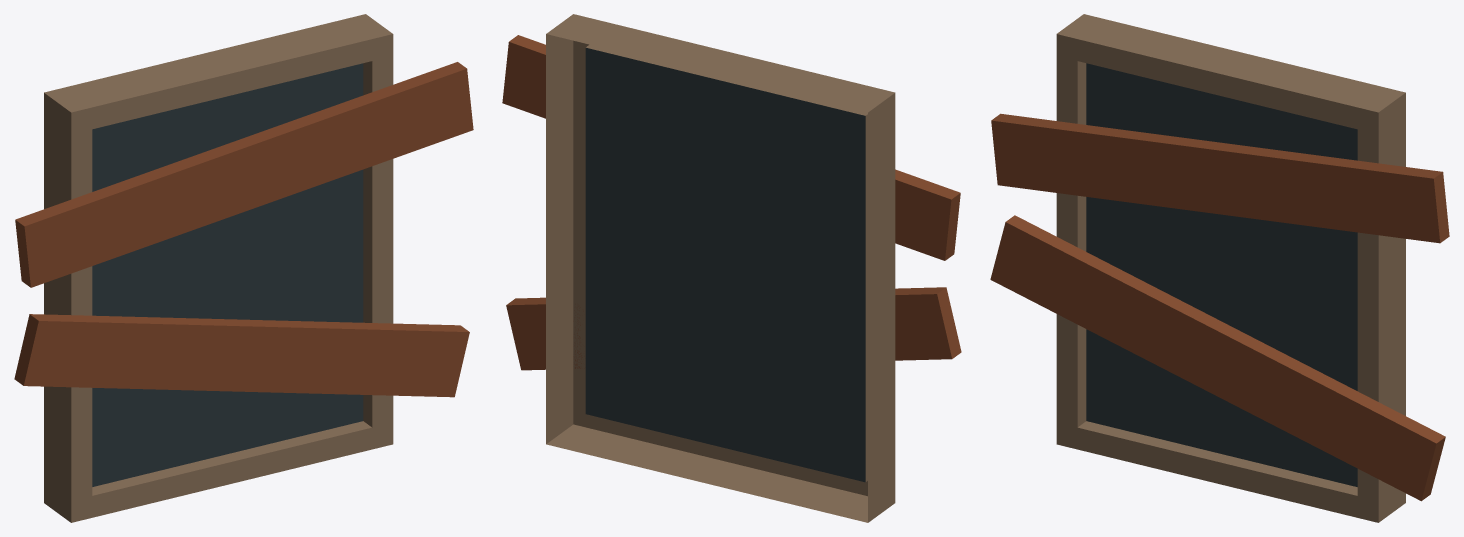
The model's file is LP_PostApoc_Window3.fbx.
The picture shows the model from 3 angles, left to right: view 1: azimuth 30°, elevation 25°; view 2: azimuth 150°, elevation 25°; view 3: azimuth 330°, elevation 25°; orthographic projection.
Parts seen in each view (by area): view 1: Window3; view 2: Window3; view 3: Window3.
Part boxes in pixels (x1,y1,x2,y2): Window3: (14, 14, 473, 522); Window3: (502, 14, 961, 522); Window3: (990, 14, 1449, 522).
Size of the model in its own units: 120 by 104 by 16.91.
